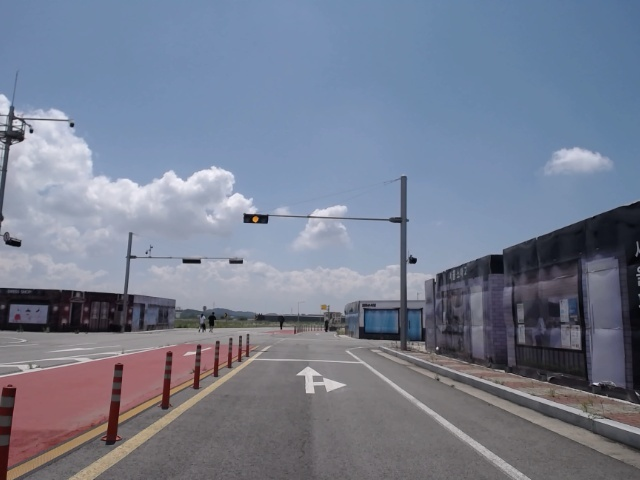orange_3: (244, 215, 268, 224)
